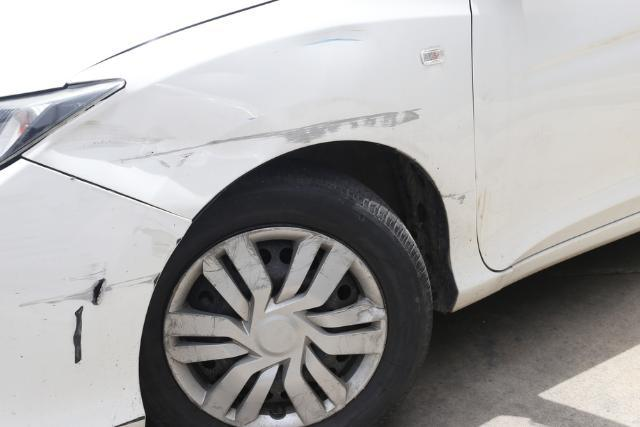Bumper: (15, 238, 161, 418)
Fender: (109, 93, 459, 188)
